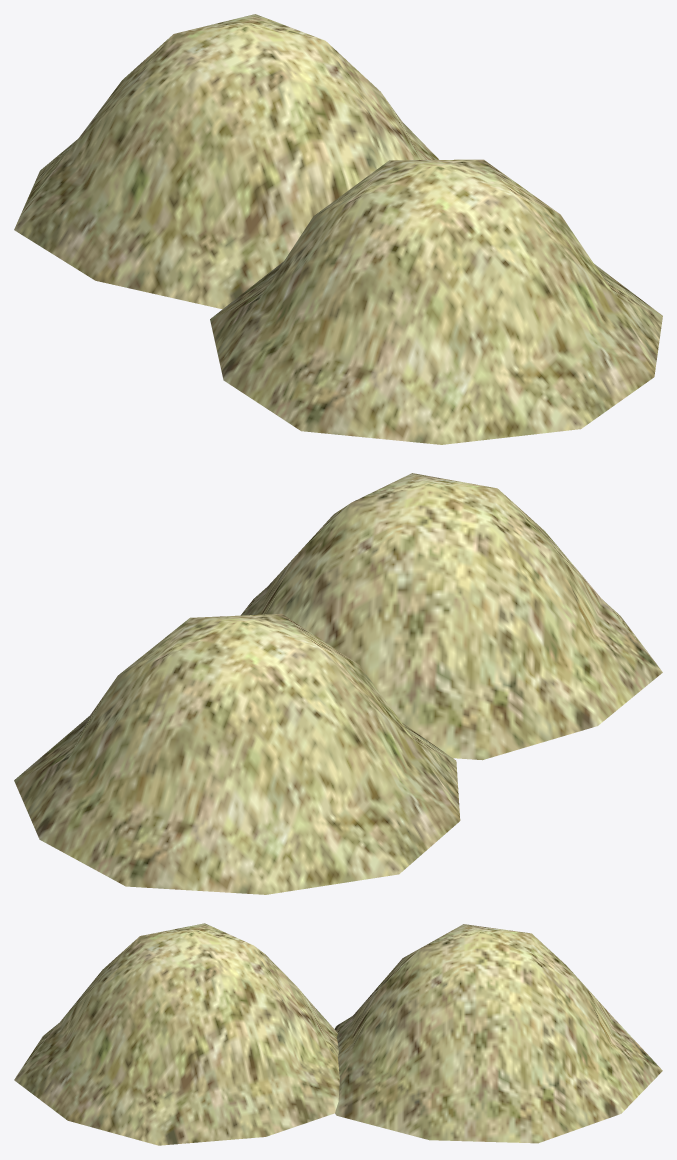
File: iber_farmstead_hay.glb
3 views of the same model, one above another, from view 1: azimuth 30°, elevation 25°; view 2: azimuth 150°, elevation 25°; view 3: azimuth 270°, elevation 25° (orthographic). The views are drawn at different scales.
Parts seen in each view (by area): view 1: hay; view 2: hay; view 3: hay.
Boxes of the visible parts, x1=… form: hay: x1=14, y1=14, x2=662, y2=444; hay: x1=14, y1=473, x2=662, y2=894; hay: x1=14, y1=923, x2=662, y2=1145.
Bounding box in the file's own units: 5.61 × 2.45 × 10.43.
Materials: 1 (1 with a texture image).
